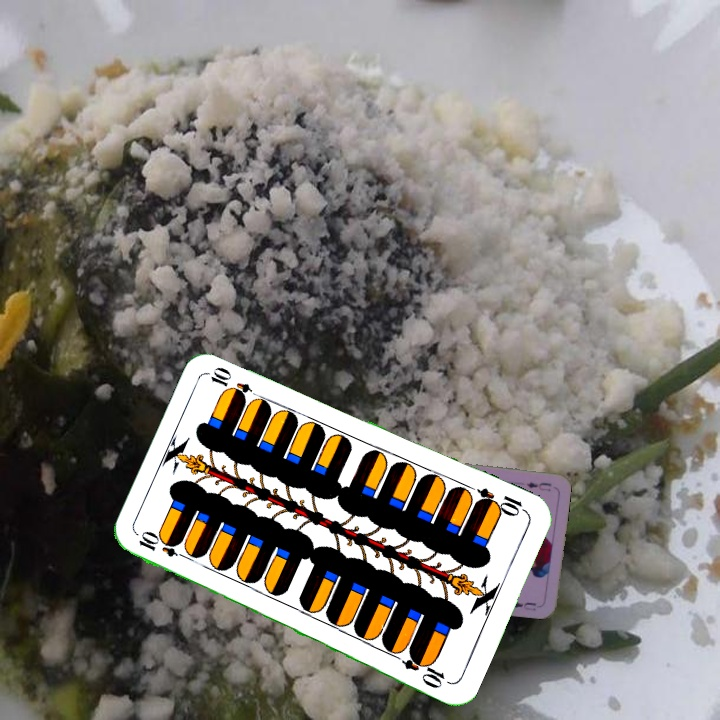E10: (472, 483, 530, 519), (134, 529, 192, 562)
EU: (522, 478, 554, 494)
